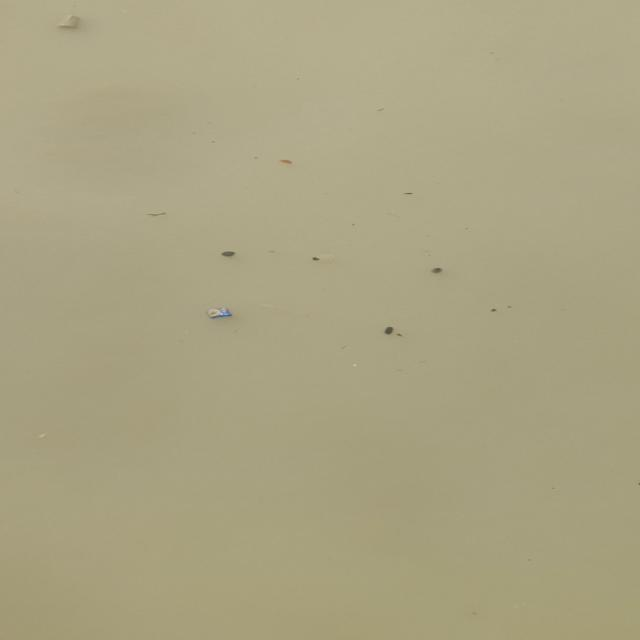Organic Debris: (218, 250, 240, 259), (383, 323, 396, 338), (278, 157, 296, 166), (141, 211, 167, 217), (429, 267, 445, 274), (375, 105, 387, 114), (309, 256, 322, 262), (394, 332, 404, 338), (250, 156, 261, 160), (491, 307, 497, 313), (404, 192, 414, 195), (461, 227, 471, 230), (506, 305, 512, 309), (210, 140, 216, 144), (351, 222, 356, 226)
Plastic: (200, 306, 237, 320), (54, 14, 82, 31)
